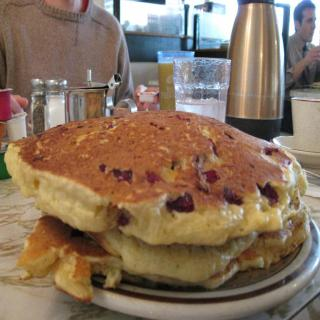Pancake: (3, 110, 306, 246)
